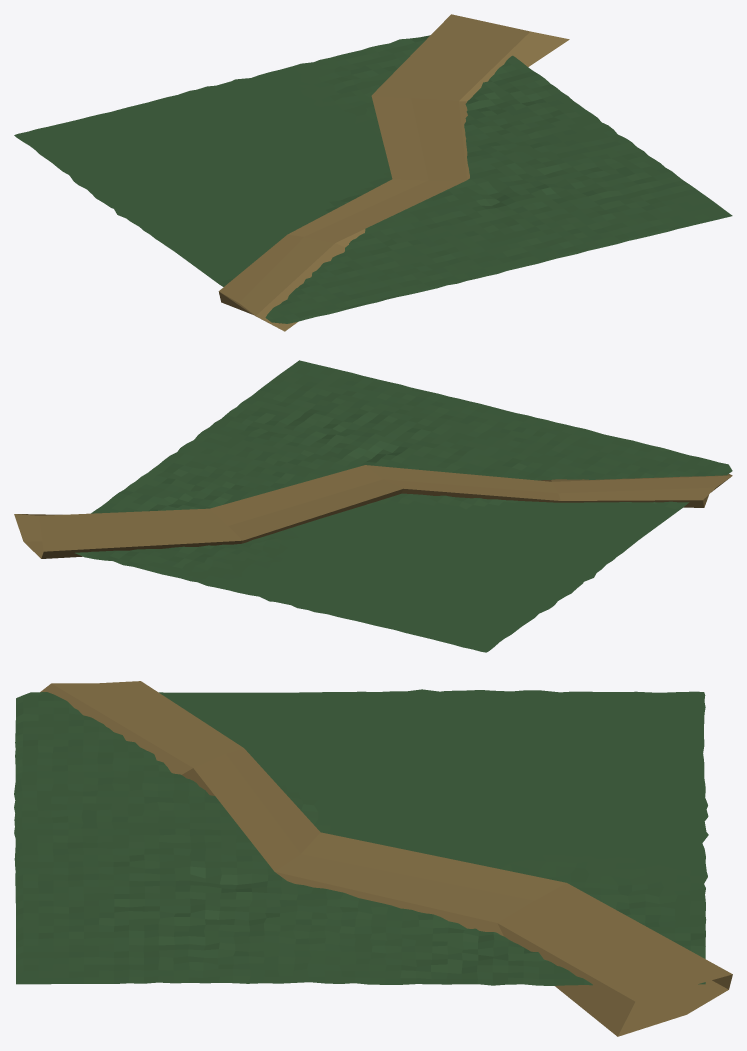
File: athili_copse_section12.glb
3 views of the same model, one above another, from view 1: azimuth 30°, elevation 25°; view 2: azimuth 150°, elevation 25°; view 3: azimuth 270°, elevation 25° (orthographic). The views are drawn at different scales.
Visible parts, largest first — view 1: Grass, Road; view 2: Grass, Road; view 3: Grass, Road.
Part boxes in pixels (left/top/right/bottom): Grass: left=14, top=35, right=732, bottom=323; Road: left=218, top=14, right=569, bottom=331; Grass: left=75, top=360, right=732, bottom=652; Road: left=14, top=465, right=732, bottom=558; Grass: left=14, top=689, right=708, bottom=985; Road: left=40, top=681, right=732, bottom=1036.
Size of the model in its own units: 69.23 by 1.84 by 61.66.
